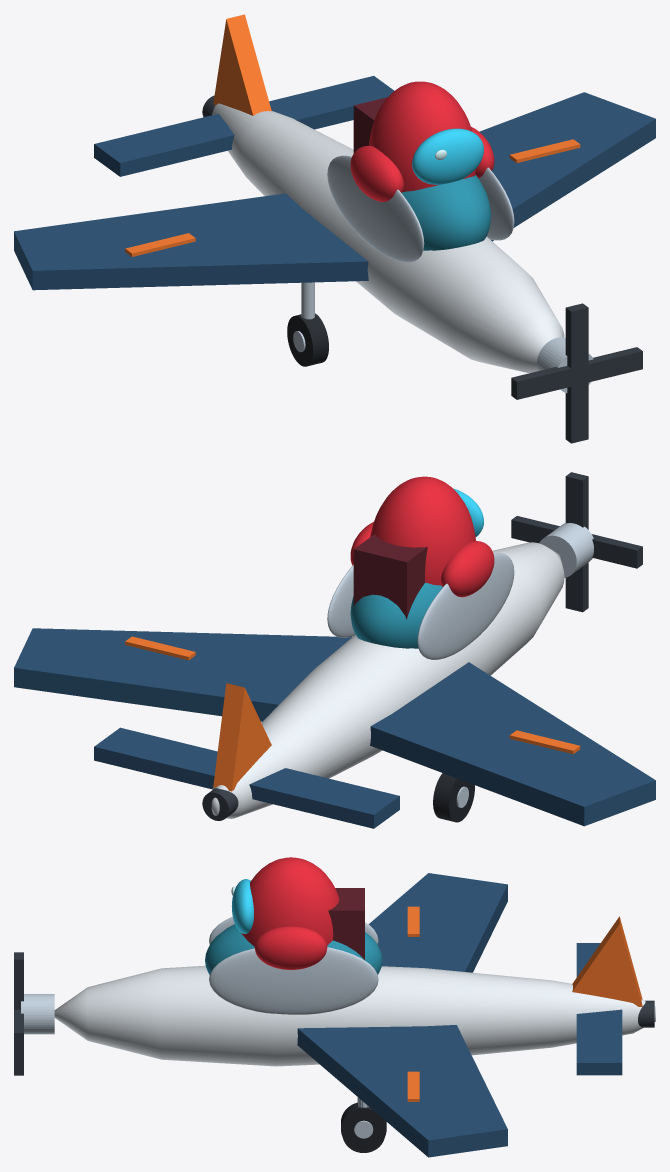
Rendered from storm-quest-aircraft.glb.
3 renders of one model, top to bottom at view 1: azimuth 30°, elevation 25°; view 2: azimuth 150°, elevation 25°; view 3: azimuth 270°, elevation 25°, orthographic. The views are drawn at different scales.
Visible parts, largest first — view 1: Streamlined Aircraft Fuselage, Left Swept Wing, Right Swept Wing, Crewmate Body, Cockpit Frame, Rear Tailplane, Cockpit Canopy, Vertical Tail Fin, Rear Tailplane.001, Propeller Blade, Crewmate Glass Visor, Propeller Blade.001 (+7 smaller); view 2: Streamlined Aircraft Fuselage, Left Swept Wing, Right Swept Wing, Crewmate Body, Rear Tailplane, Cockpit Frame, Rear Tailplane.001, Crewmate Backpack, Vertical Tail Fin, Cockpit Canopy, Propeller Blade, Crewmate Arm (+7 smaller); view 3: Streamlined Aircraft Fuselage, Right Swept Wing, Left Swept Wing, Cockpit Frame.001, Crewmate Body, Vertical Tail Fin, Rear Tailplane.001, Crewmate Arm.001, Crewmate Backpack, Cockpit Canopy, Aircraft Wheel.002, Propeller Hub (+3 smaller).
Part boxes in pixels (x1,y1,x2,y2): Streamlined Aircraft Fuselage: [212, 103, 564, 372]; Left Swept Wing: [14, 193, 368, 290]; Right Swept Wing: [479, 92, 655, 241]; Crewmate Body: [368, 81, 475, 192]; Cockpit Frame: [327, 155, 424, 262]; Rear Tailplane: [94, 113, 234, 176]; Cockpit Canopy: [401, 174, 491, 250]; Vertical Tail Fin: [213, 14, 271, 115]; Rear Tailplane.001: [269, 76, 394, 129]; Propeller Blade: [565, 303, 588, 443]; Crewmate Glass Visor: [412, 128, 483, 184]; Propeller Blade.001: [511, 347, 642, 399]; Streamlined Aircraft Fuselage: [211, 542, 564, 818]; Left Swept Wing: [370, 662, 655, 826]; Right Swept Wing: [14, 628, 351, 721]; Crewmate Body: [370, 476, 475, 585]; Rear Tailplane: [249, 768, 399, 828]; Cockpit Frame: [417, 553, 514, 659]; Rear Tailplane.001: [94, 727, 217, 789]; Crewmate Backpack: [353, 534, 427, 619]; Vertical Tail Fin: [213, 683, 271, 791]; Cockpit Canopy: [350, 582, 442, 648]; Propeller Blade: [565, 472, 588, 612]; Crewmate Arm: [441, 541, 494, 597]; Streamlined Aircraft Fuselage: [54, 965, 655, 1066]; Right Swept Wing: [297, 1025, 507, 1157]; Left Swept Wing: [368, 873, 507, 972]; Cockpit Frame.001: [209, 947, 378, 1014]; Crewmate Body: [241, 857, 339, 946]; Vertical Tail Fin: [572, 916, 642, 1006]; Rear Tailplane.001: [576, 1009, 622, 1075]; Crewmate Arm.001: [254, 926, 327, 969]; Crewmate Backpack: [328, 888, 364, 960]; Cockpit Canopy: [205, 924, 382, 974]; Aircraft Wheel.002: [341, 1102, 386, 1149]; Propeller Hub: [21, 994, 54, 1034].
Size of the model in its own units: 4.7 by 2.12 by 4.77.
